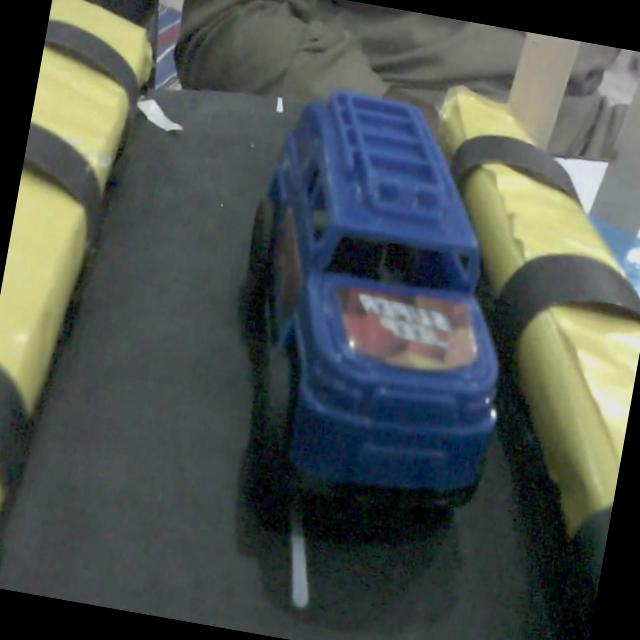OneCar: (246, 92, 497, 507)
